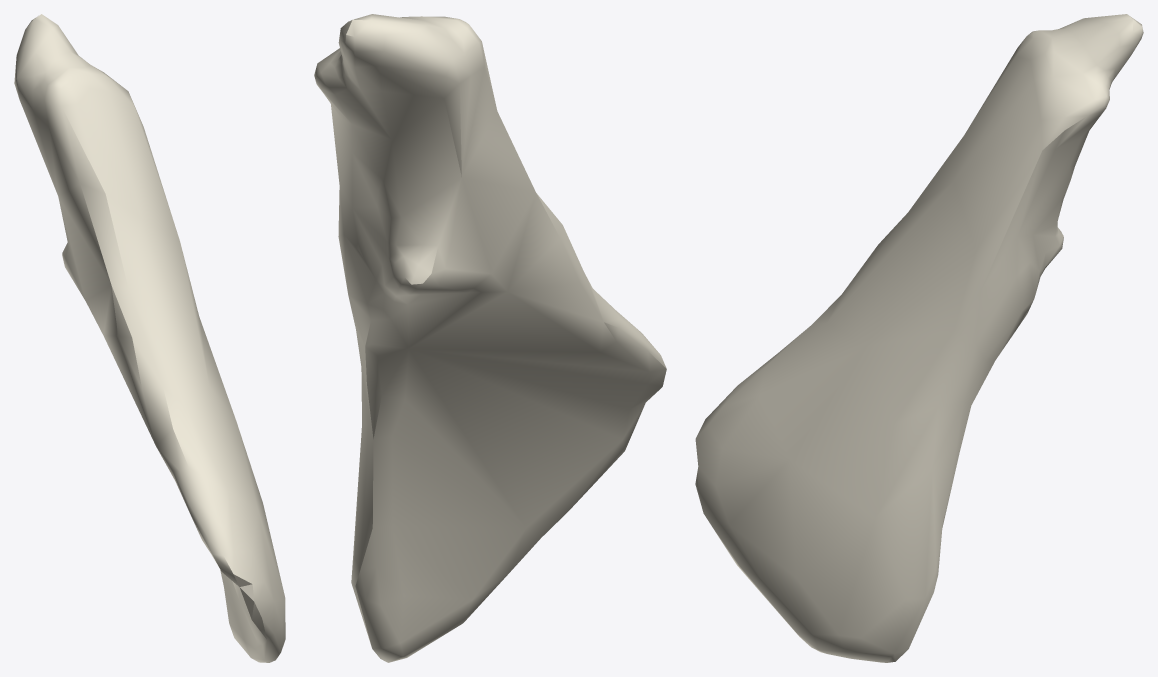
File: fma53648_fj6383.glb
The picture shows the model from 3 angles, left to right: view 1: azimuth 30°, elevation 25°; view 2: azimuth 150°, elevation 25°; view 3: azimuth 270°, elevation 25°; orthographic projection. The views are drawn at different scales.
Visible parts, largest first — view 1: FMA53648_FJ6383; view 2: FMA53648_FJ6383; view 3: FMA53648_FJ6383.
Part boxes in pixels (left/top/right/bottom): FMA53648_FJ6383: left=14, top=14, right=285, bottom=662; FMA53648_FJ6383: left=314, top=14, right=666, bottom=662; FMA53648_FJ6383: left=695, top=14, right=1143, bottom=662.
Size of the model in its own units: 0.00909 by 0.0317 by 0.0215.
